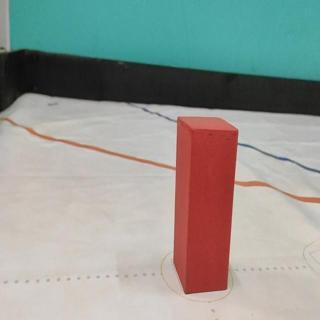redbox: (174, 114, 238, 295)
